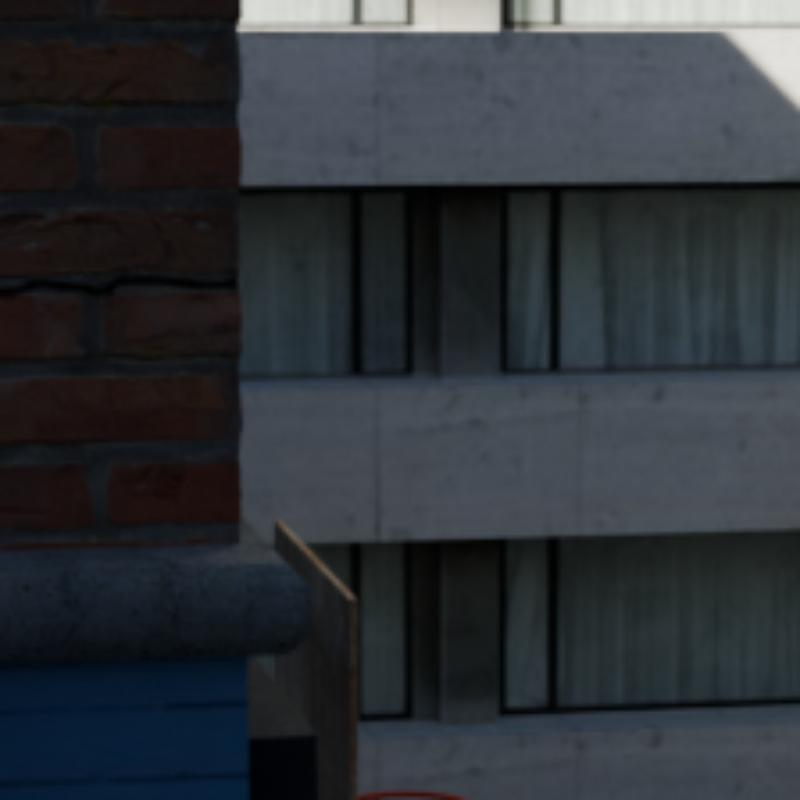crack: (0, 275, 236, 293)
